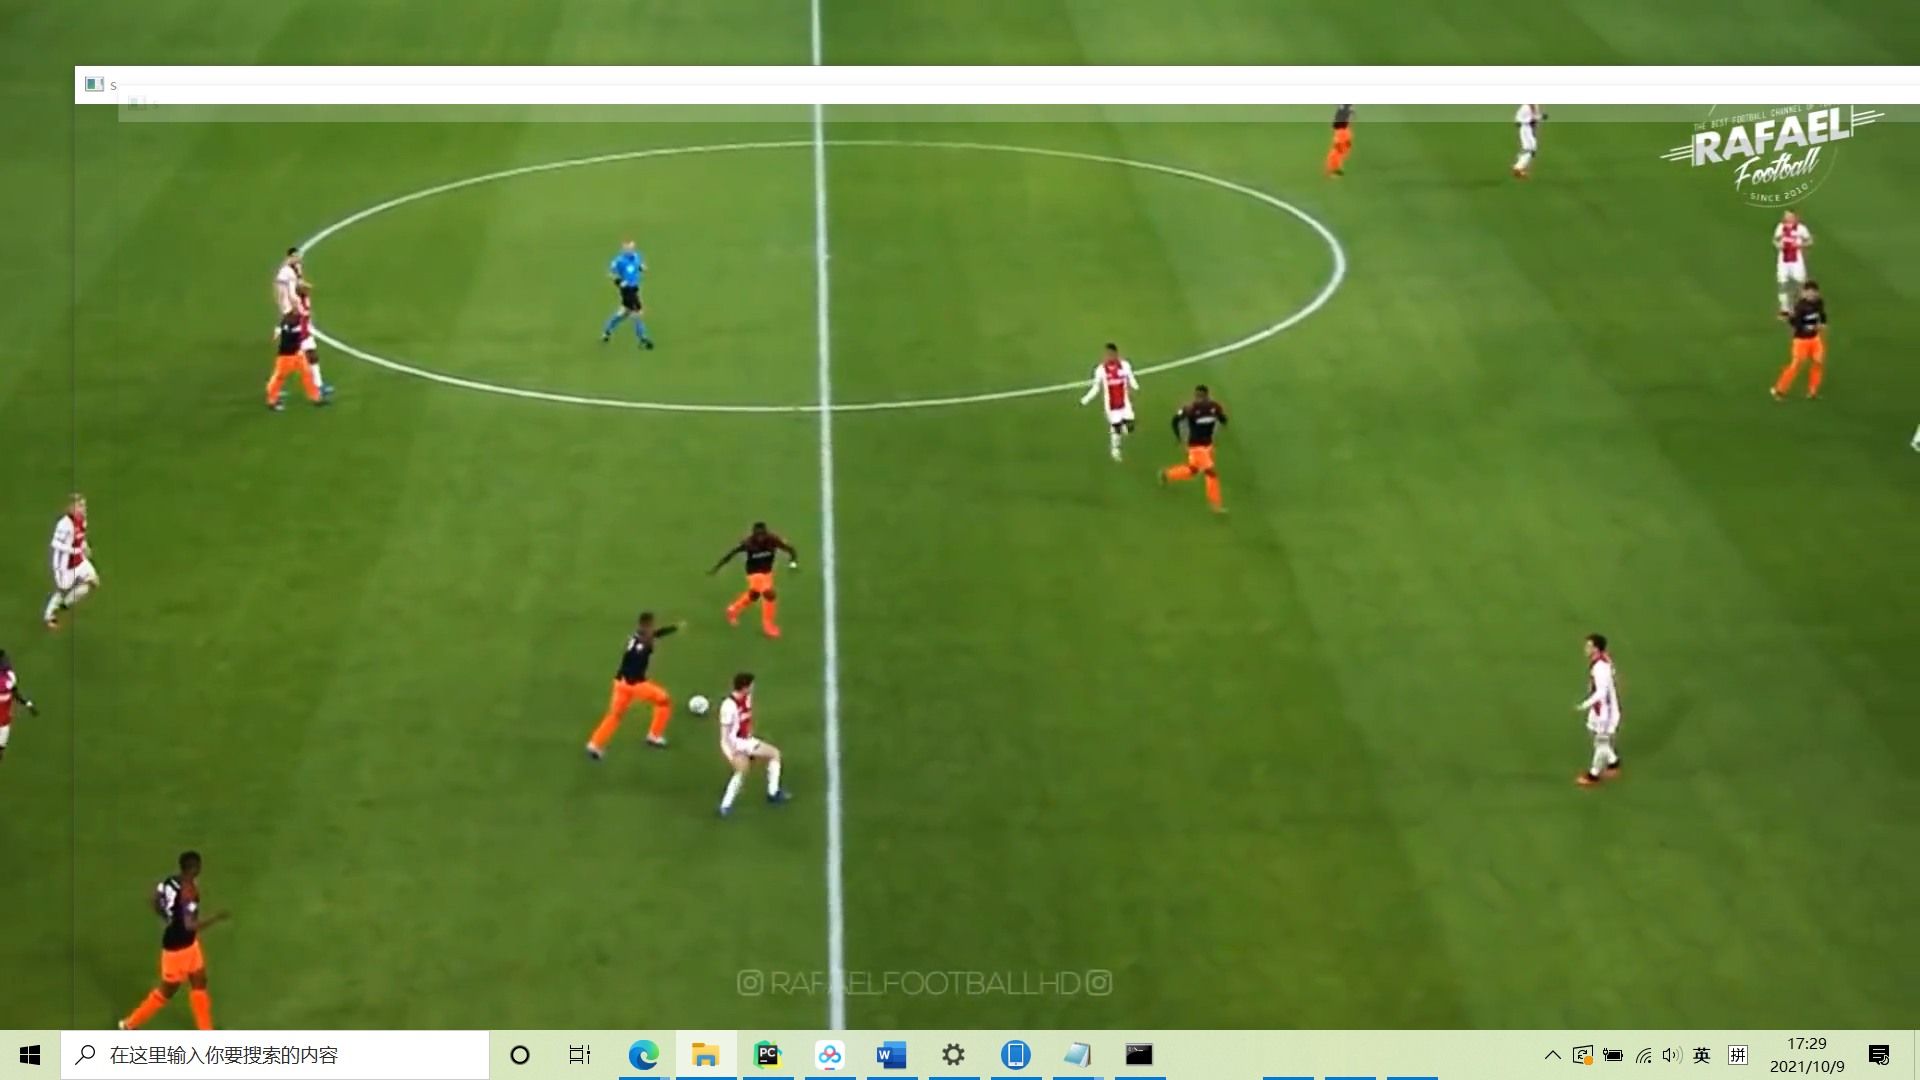ft: (686, 694, 712, 717)
